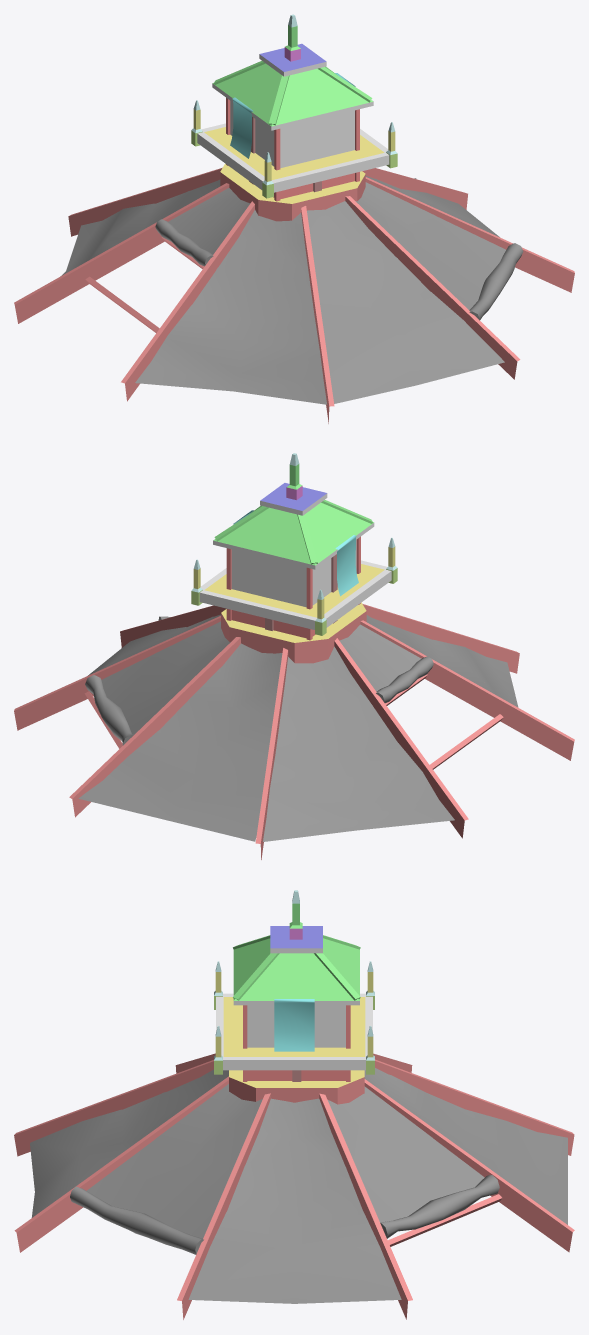
File: L2fortress_02_s__fort02_officer_cap.gltf
3 views of the same model, one above another, from view 1: azimuth 30°, elevation 25°; view 2: azimuth 150°, elevation 25°; view 3: azimuth 270°, elevation 25° (orthographic). The views are drawn at different scales.
Visible parts, largest first — view 1: fort02_officer_cap; view 2: fort02_officer_cap; view 3: fort02_officer_cap.
Boxes of the visible parts, box(x1,y1,x2,y2) form: fort02_officer_cap: box(14, 14, 574, 423); fort02_officer_cap: box(14, 453, 574, 859); fort02_officer_cap: box(14, 890, 574, 1319).
Size of the model in its own units: 7.49 by 4.59 by 7.49.
